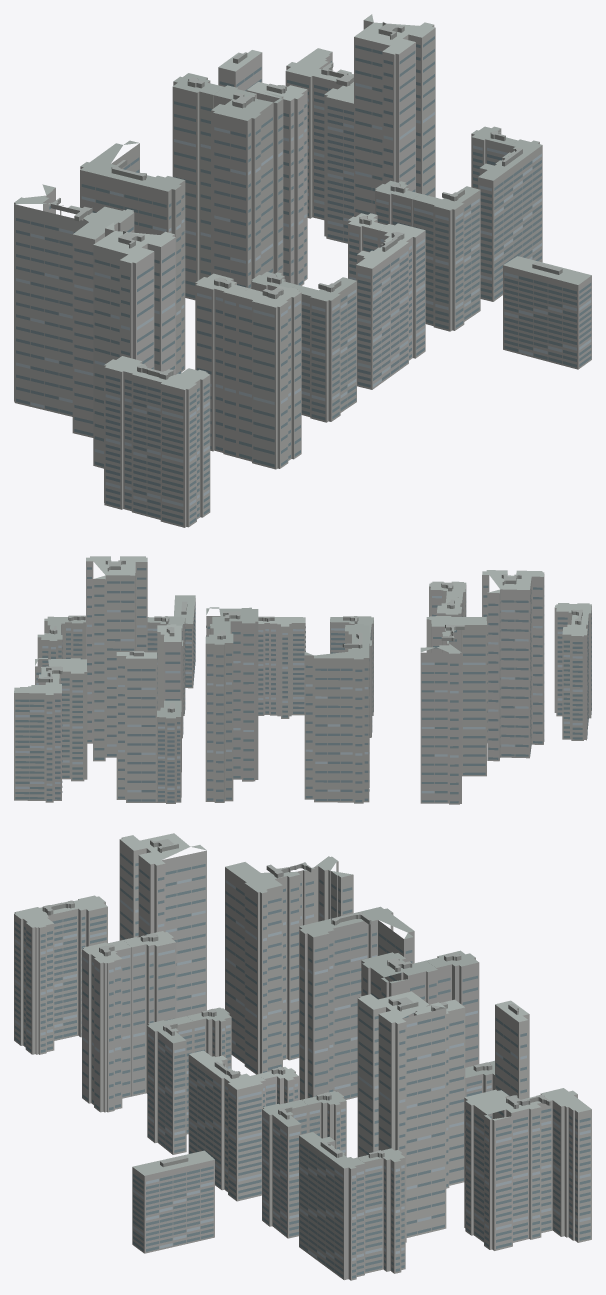
The model's file is apt-a10027205.glb.
The picture shows the model from 3 angles, top to bottom: view 1: azimuth 30°, elevation 25°; view 2: azimuth 150°, elevation 25°; view 3: azimuth 270°, elevation 25°; orthographic projection. The views are drawn at different scales.
Visible parts, largest first — view 1: apt-a10027205; view 2: apt-a10027205; view 3: apt-a10027205.
Part boxes in pixels (x1,y1,x2,y2): apt-a10027205: (14,14,591,527); apt-a10027205: (14,556,591,804); apt-a10027205: (14,833,591,1280).
Bounding box in the file's own units: 325 × 132 × 308.
